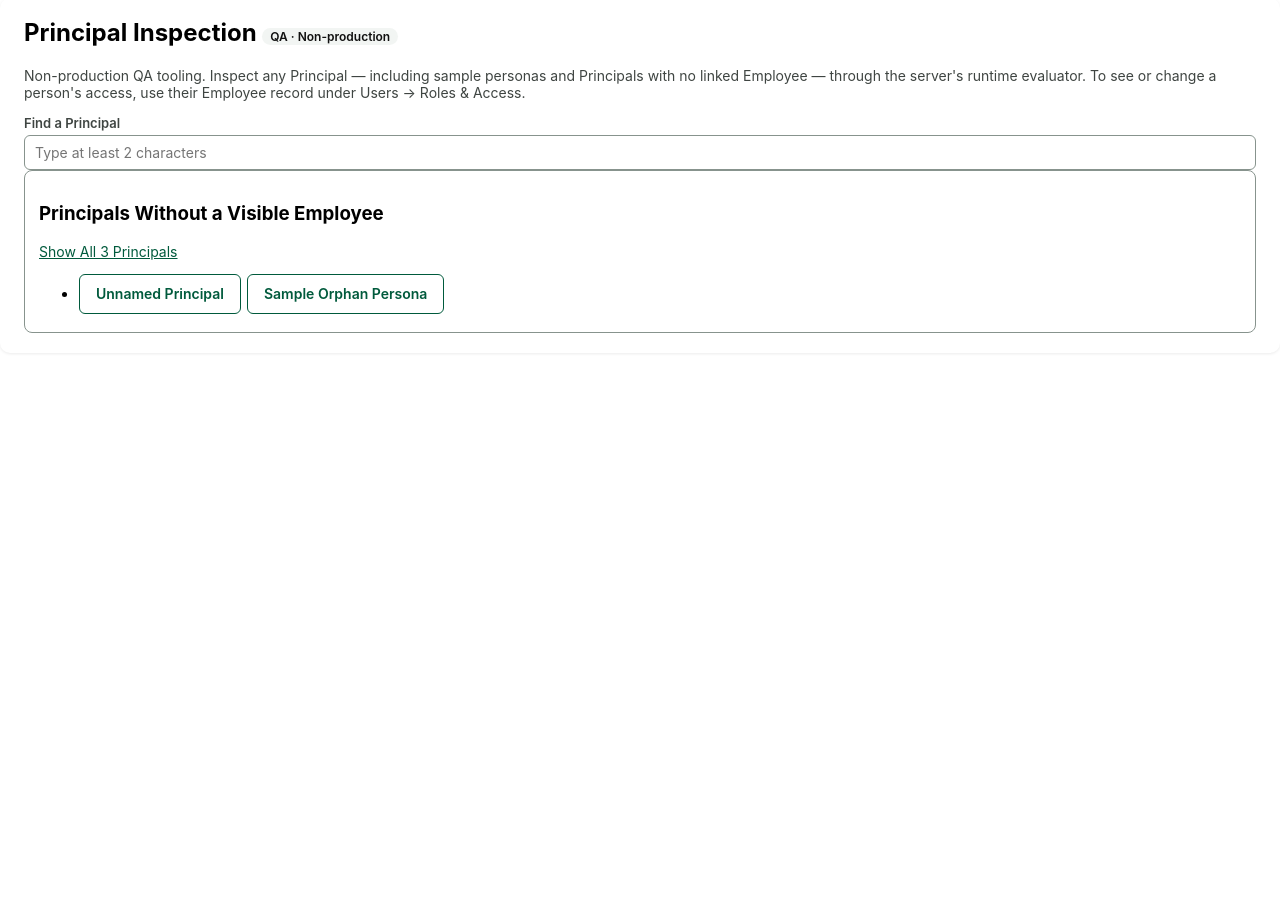
Scenario: Principal Inspection (nonprod QA) -- the retired Permission Preview's unique functions › inspects a selected Principal through the RUNTIME EVALUATOR (explainEffectiveAccess) with provenance -- never the retired projection
Click the button "Sample Orphan Persona". click: (346, 294)
box: 247,274 -> 444,314
(page scrolled)
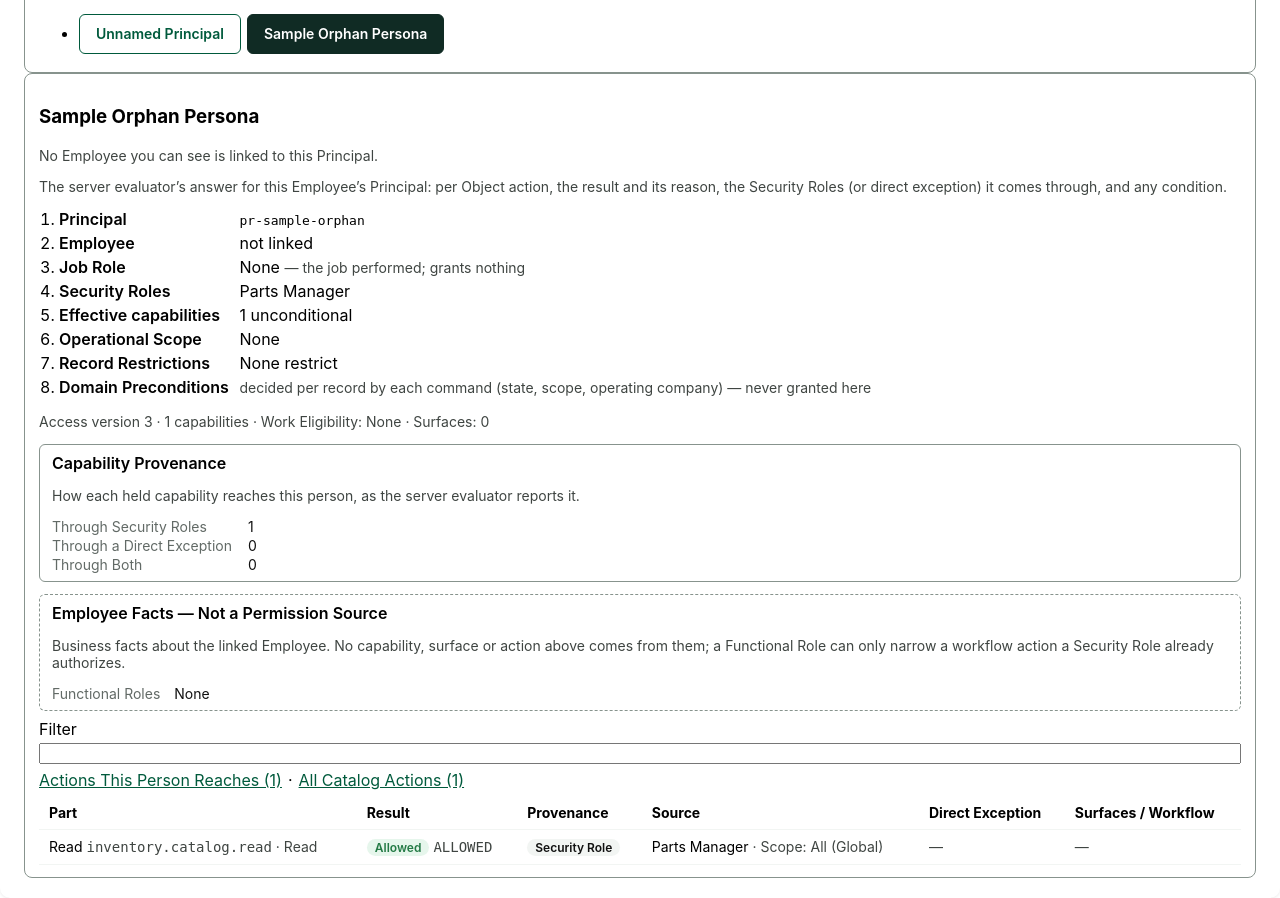
Result: the text "No Employee you can see is linked to this Principal." is shown at 39,147 -> 378,164
